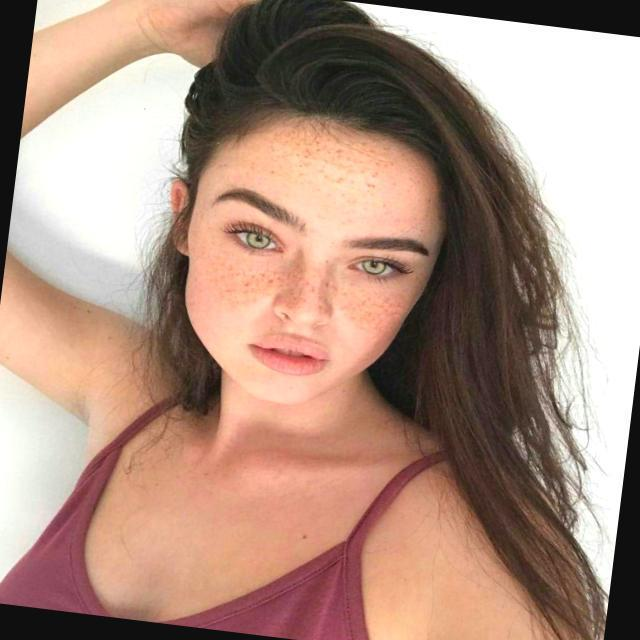freckle: (186, 236, 415, 344), (264, 118, 409, 206)
